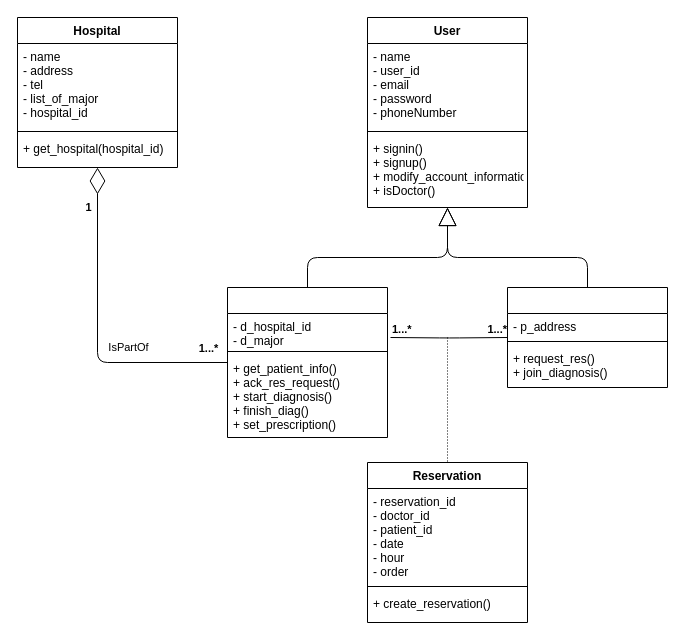
The diagram is 685 pixels wide and 643 high, and some of its shapes have lost their labels. The shapes that lost their labels are listed below. From the top down, each one's box as (x1, y1, x2, y2) in pixels, then its label:
(506, 286, 668, 388): Patient
(226, 286, 388, 438): Doctor
